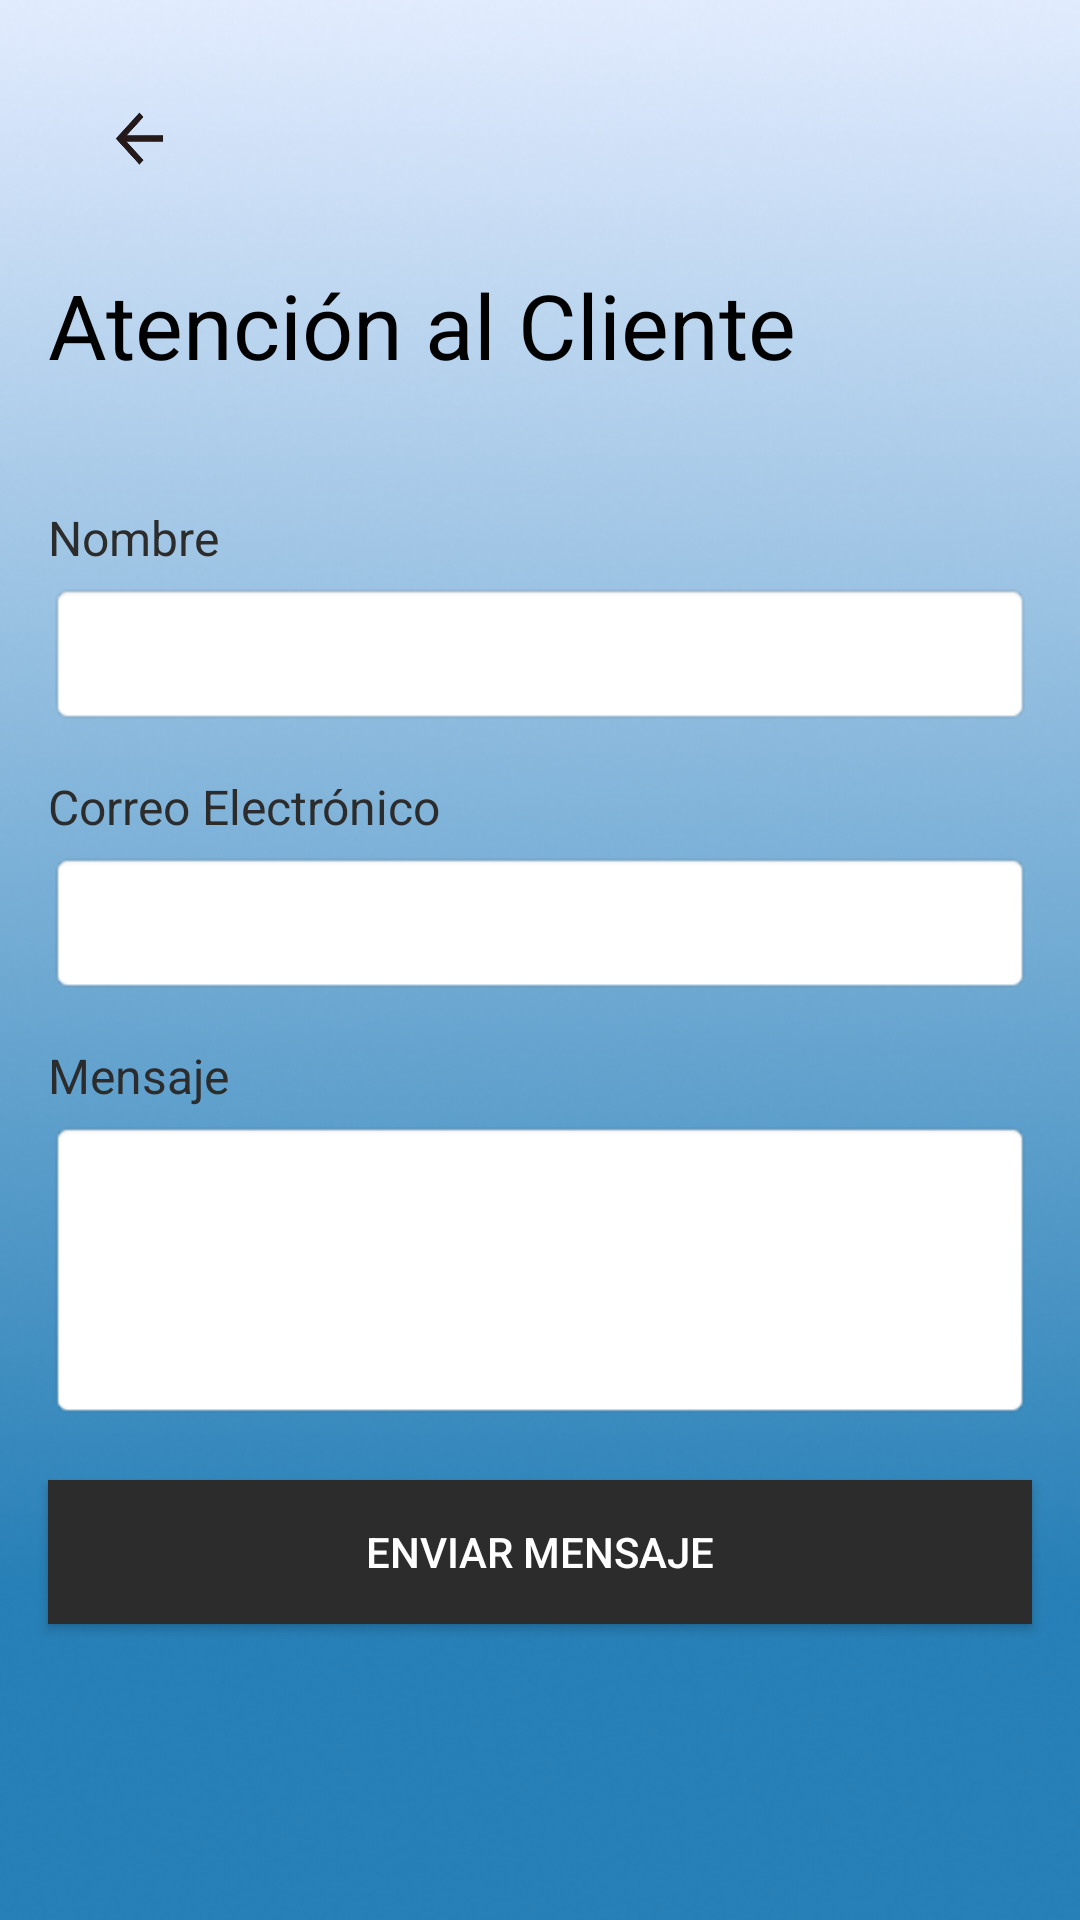

Named icons in this screenshot (1080px×1920px) and their bounding boxes, bbox=(x1, y1, x2, y2):
flecha atras negra: bbox=(116, 112, 163, 165)
